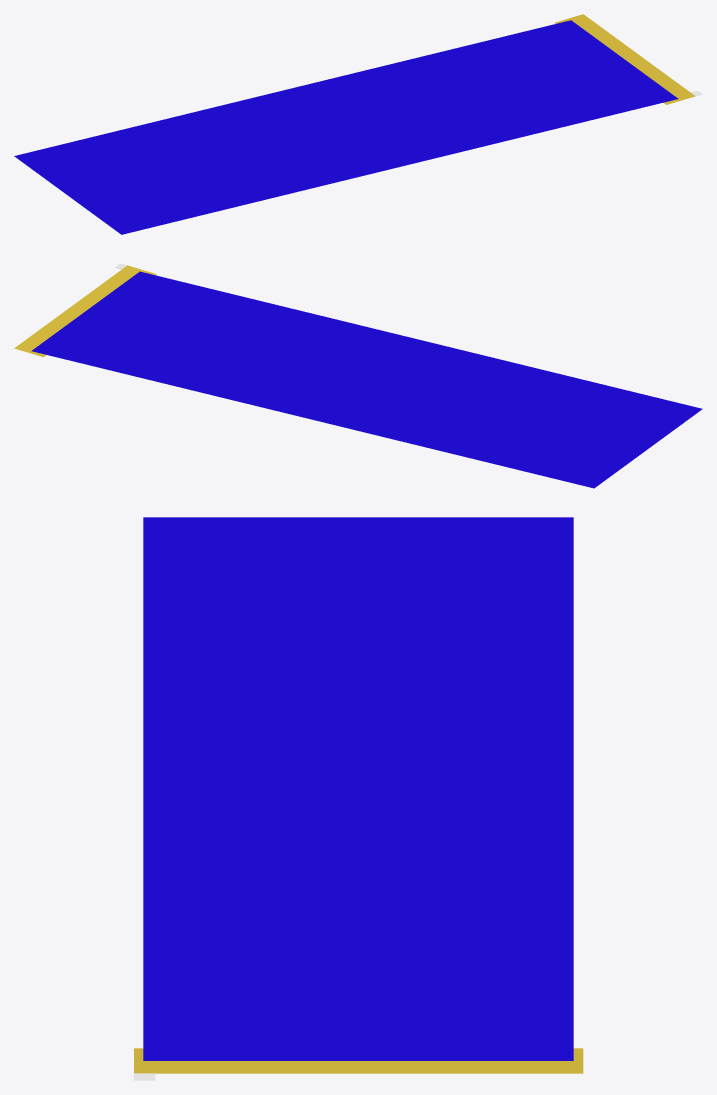
Rendered from town1.glb.
The picture shows the model from 3 angles, top to bottom: view 1: azimuth 30°, elevation 25°; view 2: azimuth 150°, elevation 25°; view 3: azimuth 270°, elevation 25°; orthographic projection. The views are drawn at different scales.
Visible parts, largest first — view 1: Water, Sand; view 2: Water, Sand; view 3: Water, Sand.
Part boxes in pixels (box(x1,y1,x2,y2)): Water: box(14, 20, 678, 234); Sand: box(554, 14, 694, 104); Water: box(31, 271, 702, 488); Sand: box(14, 265, 156, 357); Water: box(143, 517, 573, 1060); Sand: box(134, 1048, 583, 1073).
Size of the model in its own units: 739 by 2.06 by 248.
